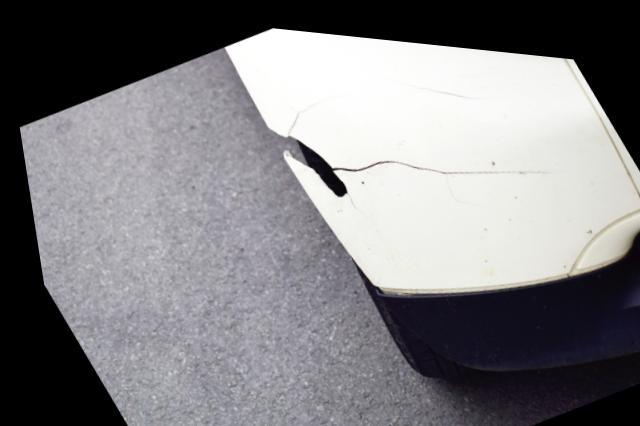crack: (266, 89, 550, 208), (385, 70, 486, 90)
